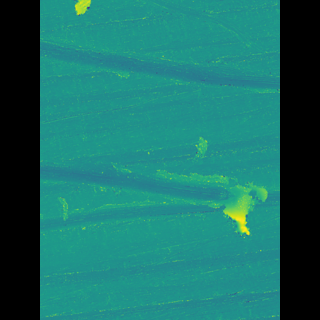Loch: (69, 23, 251, 91), (69, 158, 210, 235), (140, 0, 237, 54), (205, 165, 243, 243)
